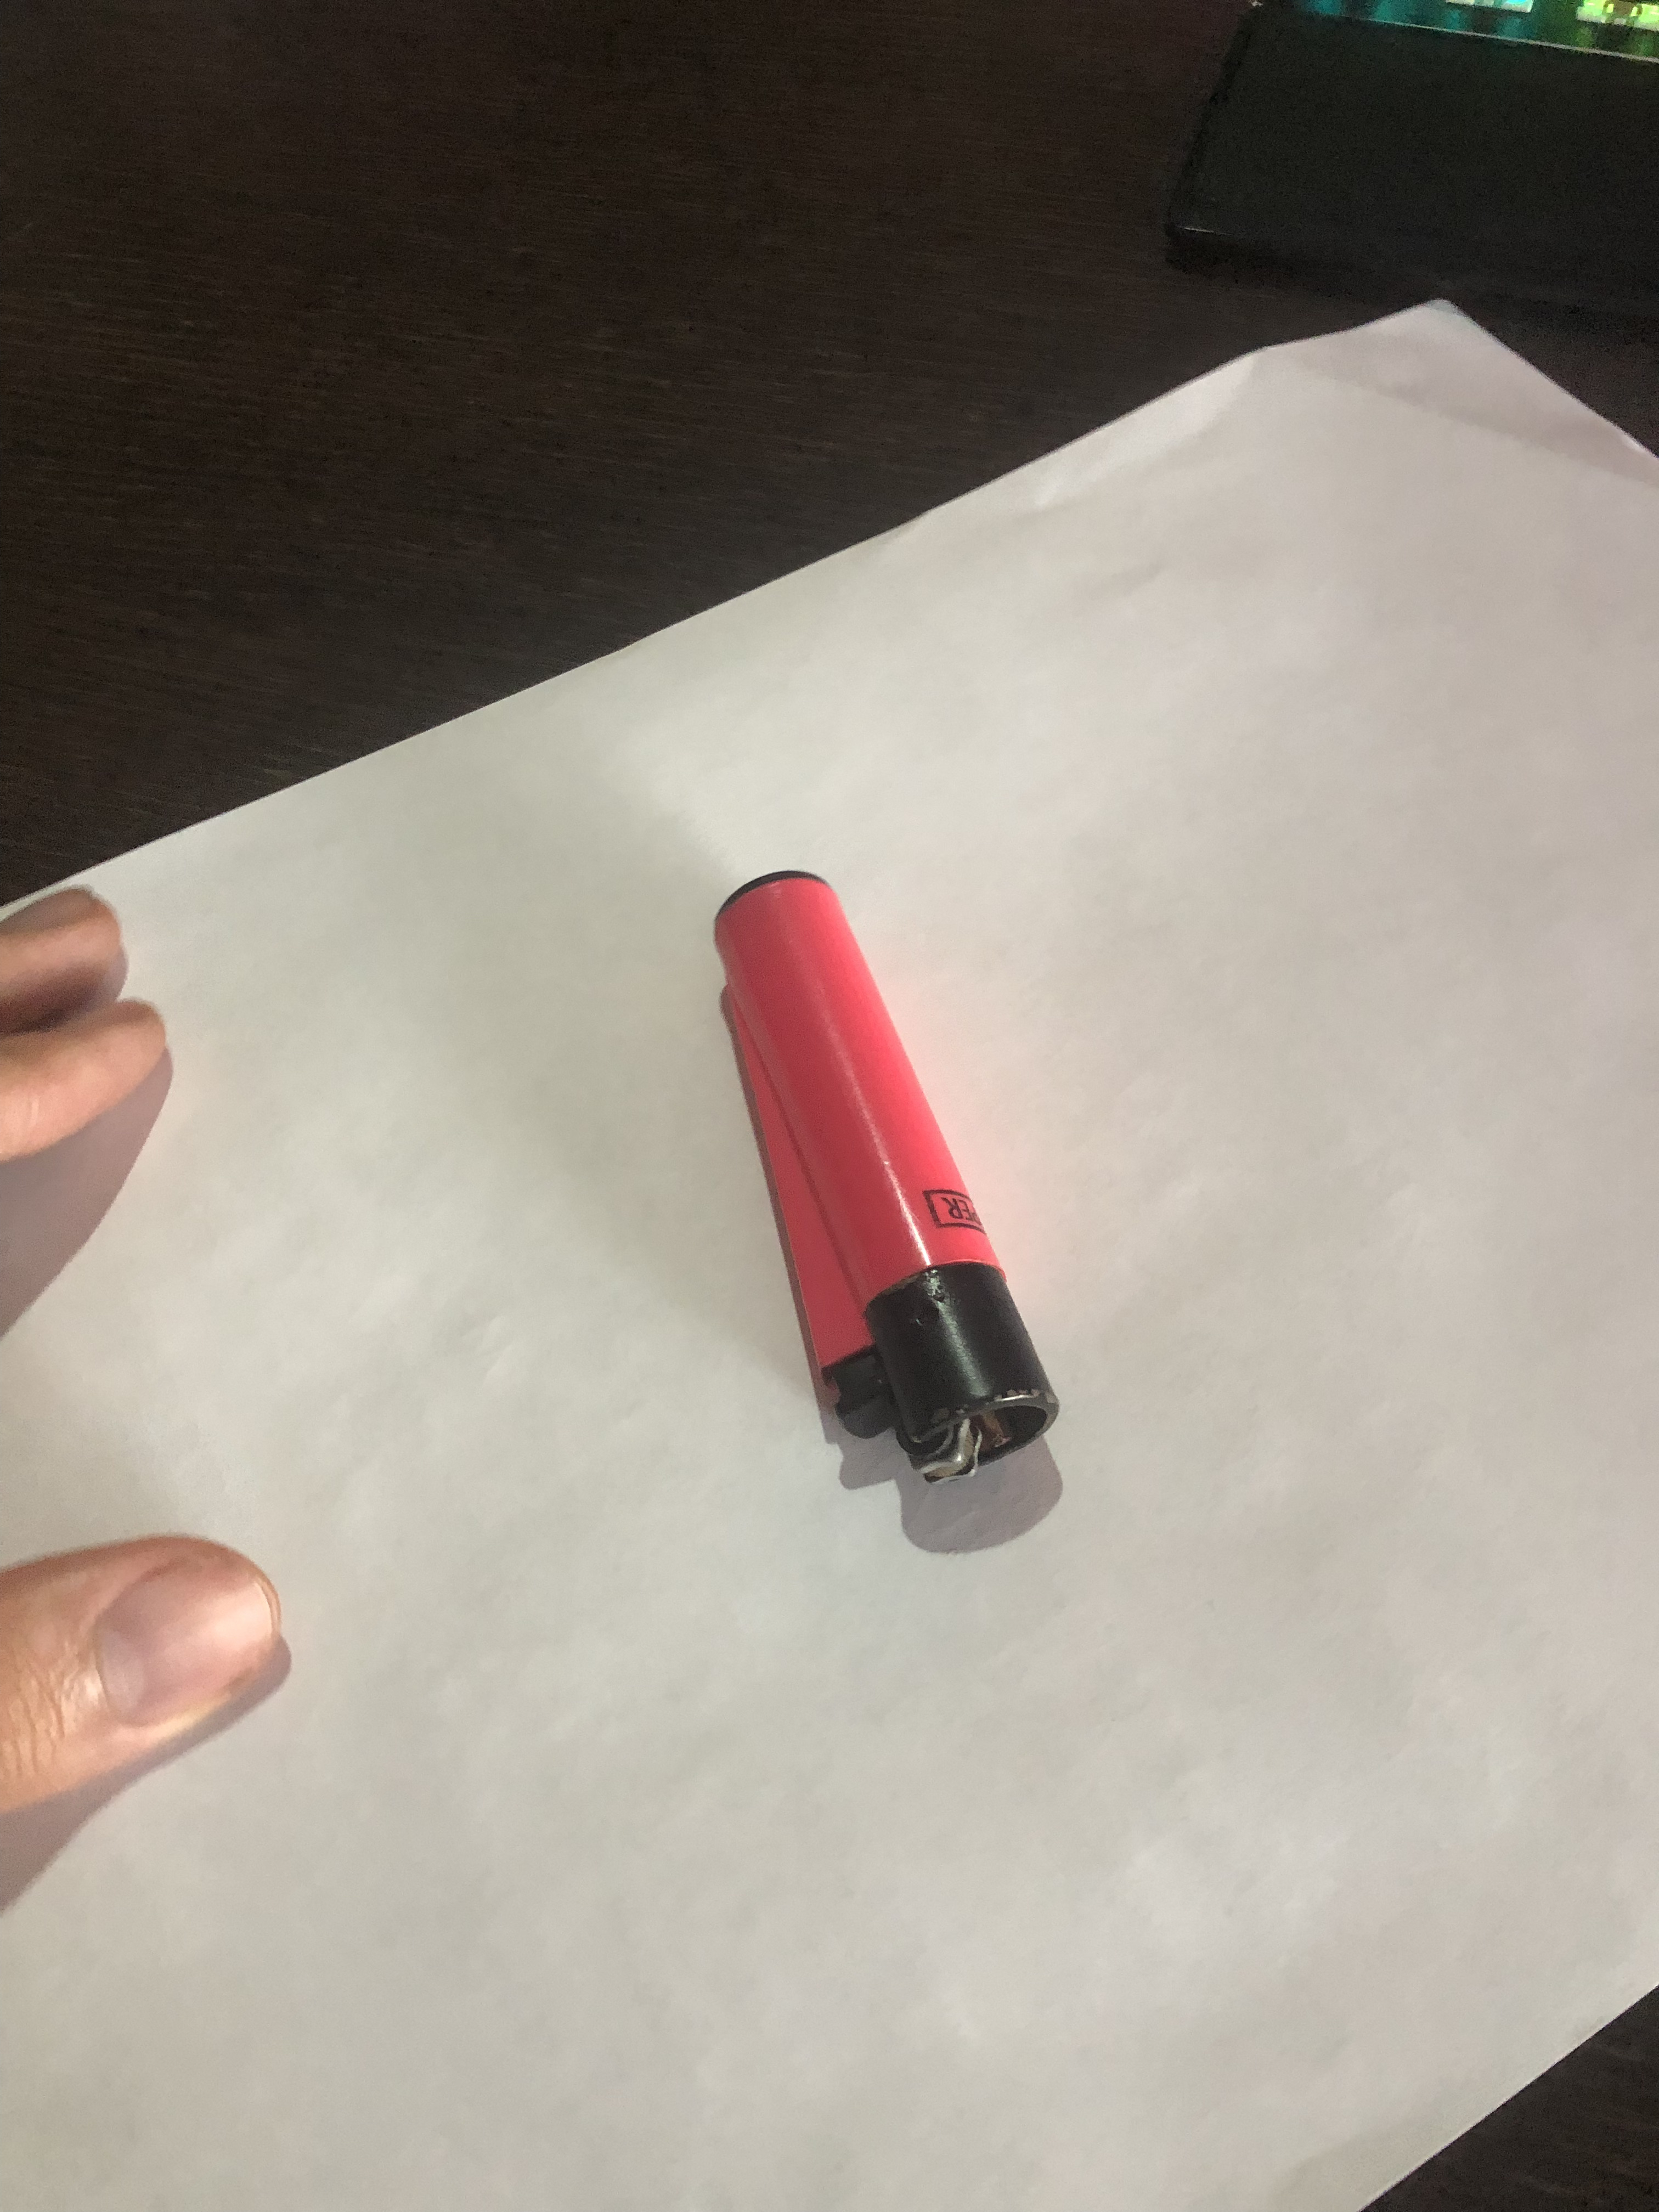Mechero: (702, 860, 1065, 1491)
